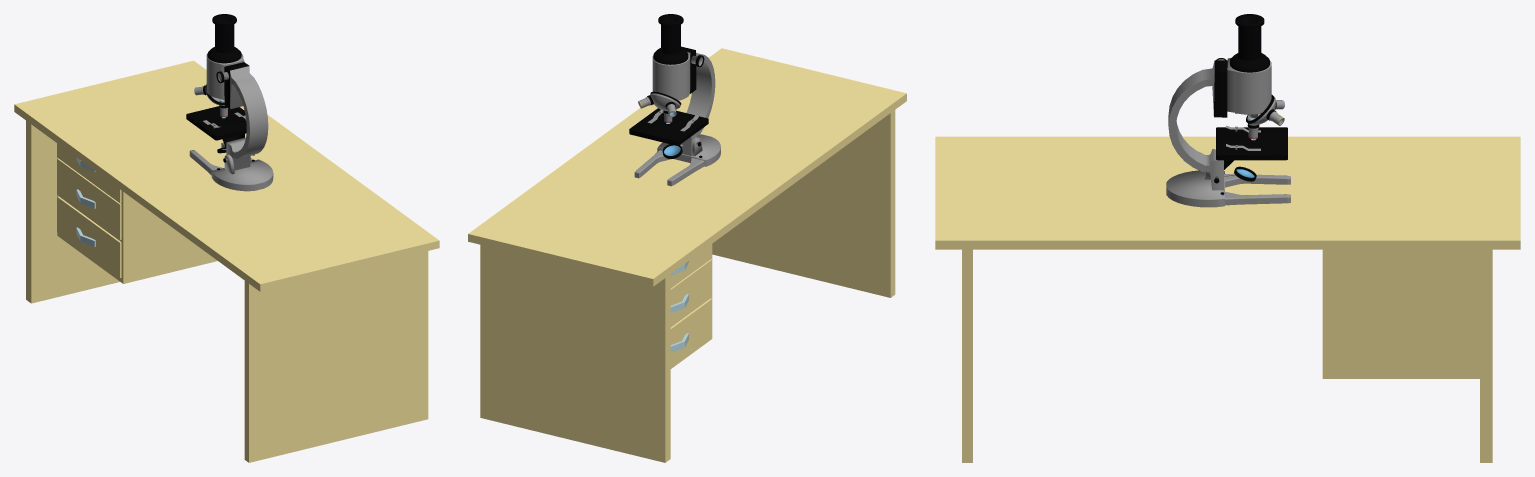
Rendered from microscope.fbx.
3 renders of one model, left to right at view 1: azimuth 30°, elevation 25°; view 2: azimuth 150°, elevation 25°; view 3: azimuth 270°, elevation 25°, orthographic. The views are drawn at different scales.
Visible parts, largest first — view 1: Cube.218, Circle.003; view 2: Cube.218, Circle.003; view 3: Cube.218, Circle.003.
Part boxes in pixels (left/top/right/bottom): Cube.218: left=14, top=60, right=439, bottom=462; Circle.003: left=186, top=14, right=273, bottom=191; Cube.218: left=468, top=48, right=906, bottom=462; Circle.003: left=629, top=14, right=720, bottom=186; Cube.218: left=935, top=136, right=1520, bottom=462; Circle.003: left=1166, top=14, right=1290, bottom=207.
Bounding box in the file's own units: 200 × 353 × 475.
